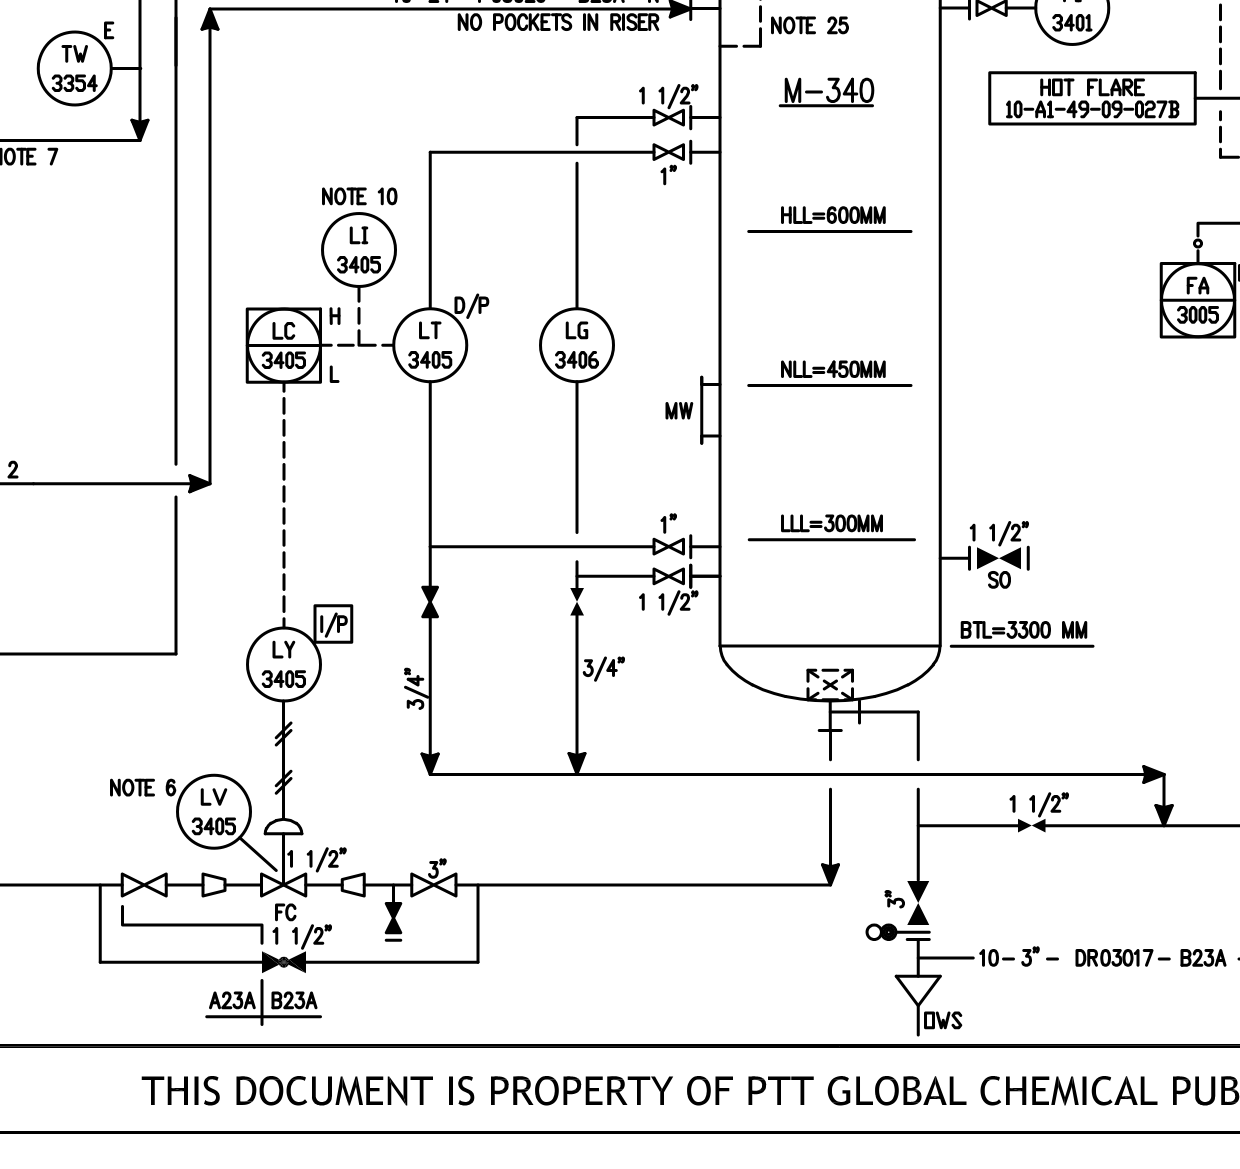Instrument Tag: (29, 27, 124, 113), (310, 208, 405, 293), (238, 620, 333, 705), (164, 769, 259, 854), (380, 301, 474, 386), (529, 303, 624, 388), (1146, 258, 1240, 343), (1031, 1, 1117, 54)
Reducer: (196, 864, 238, 906), (334, 864, 376, 906)
Spetacle Blind: (862, 916, 938, 948)
Valve: (643, 528, 701, 563), (114, 870, 174, 903), (254, 869, 313, 902), (404, 869, 463, 902), (643, 103, 702, 136), (643, 136, 701, 169), (641, 561, 700, 594), (963, 1, 1023, 33)
